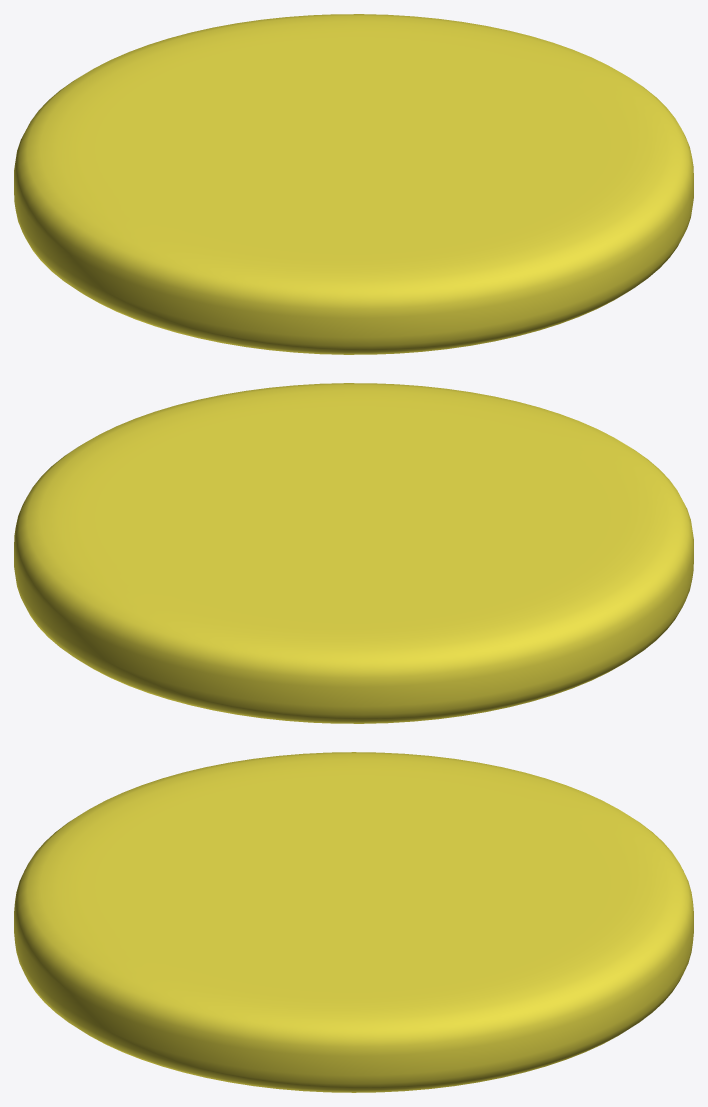
Rendered from CirculoAmarillo.fbx.
The picture shows the model from 3 angles, top to bottom: view 1: azimuth 30°, elevation 25°; view 2: azimuth 150°, elevation 25°; view 3: azimuth 270°, elevation 25°; orthographic projection.
Parts seen in each view (by area): view 1: CirculoAmarilla; view 2: CirculoAmarilla; view 3: CirculoAmarilla.
Boxes of the visible parts, x1=… form: CirculoAmarilla: x1=14, y1=14, x2=693, y2=354; CirculoAmarilla: x1=14, y1=383, x2=693, y2=723; CirculoAmarilla: x1=14, y1=752, x2=693, y2=1092.
Bounding box in the file's own units: 1.2 × 0.1488 × 1.2.
